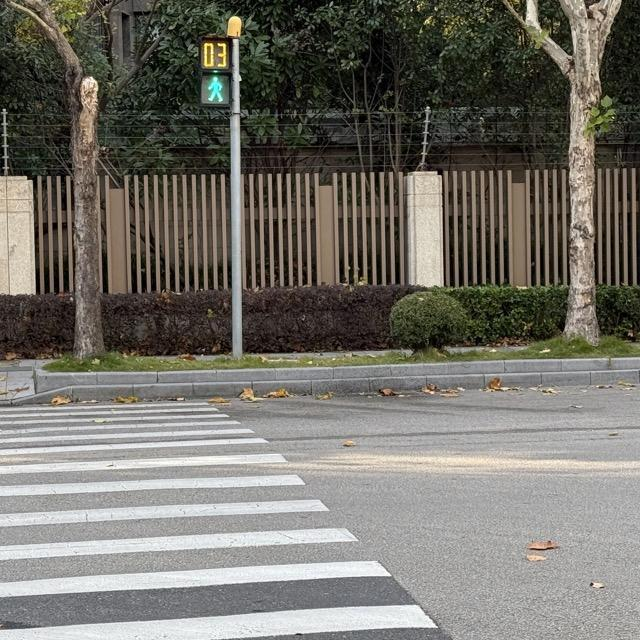curb: (12, 369, 639, 404), (35, 357, 639, 391)
